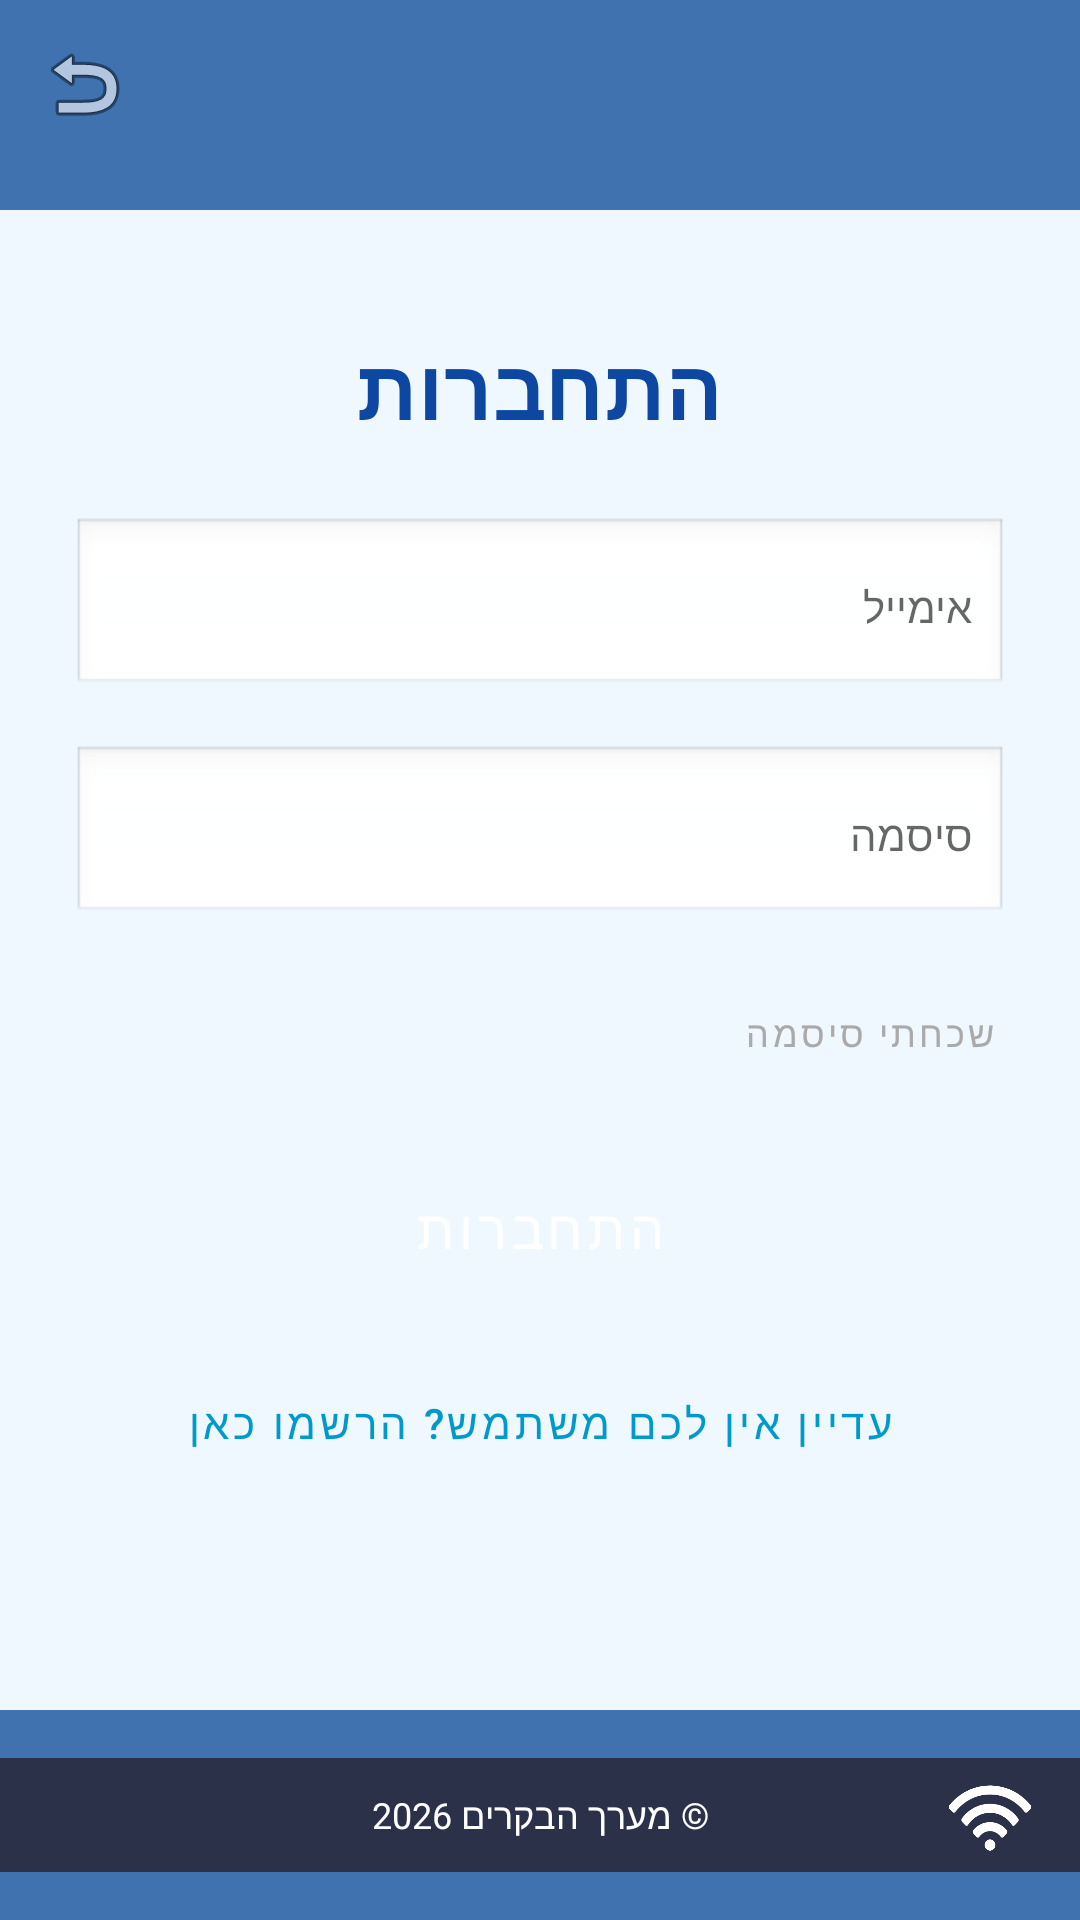

Screen size 1080×1920. Icon name, then its box in pixels as [left=x1, top=y1, right=x2, bottom=y2]:
wifi: [left=949, top=1785, right=1031, bottom=1851]
